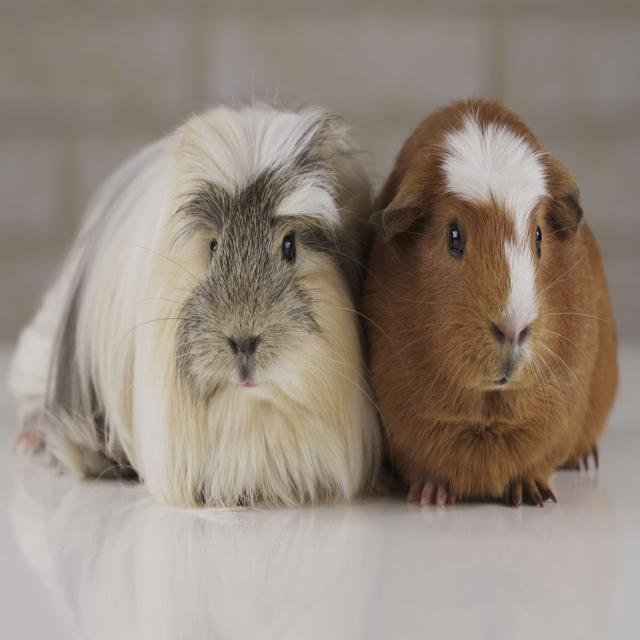guinea pig: (65, 96, 379, 522), (362, 67, 622, 530)
